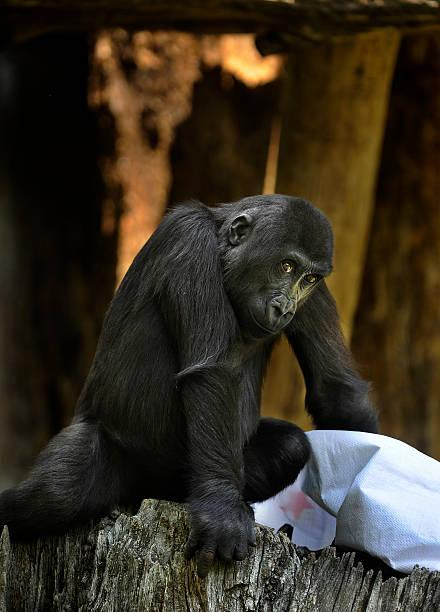gorille_Autres: (10, 153, 440, 588)
